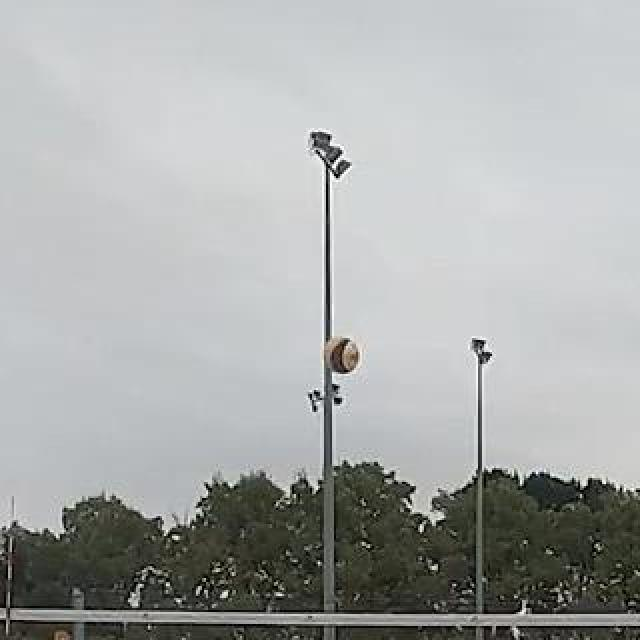volleyball: (327, 336, 361, 374)
